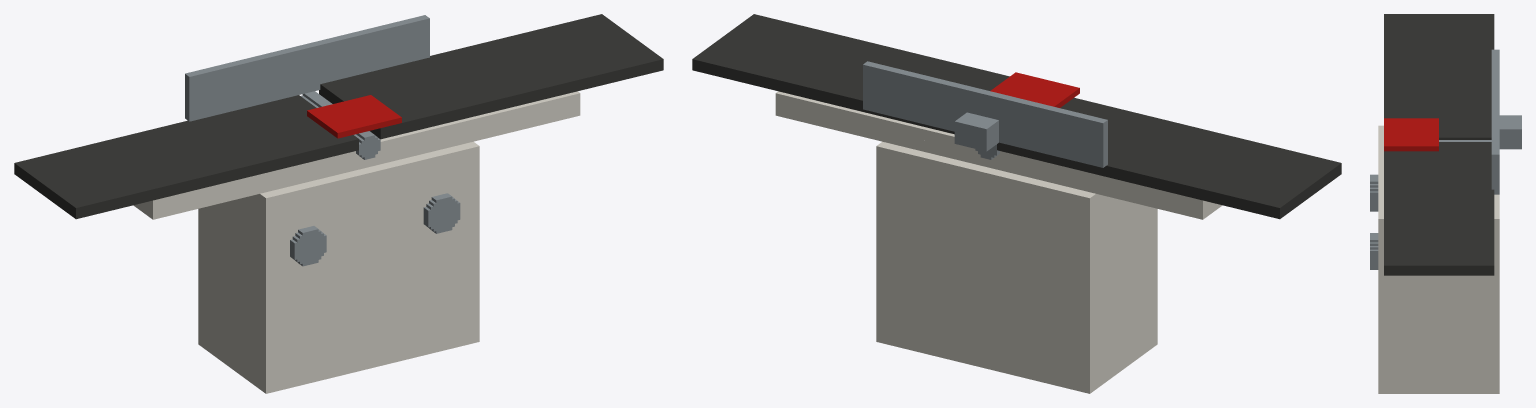
The model's file is jointer.glb.
3 renders of one model, left to right at view 1: azimuth 30°, elevation 25°; view 2: azimuth 150°, elevation 25°; view 3: azimuth 270°, elevation 25°, orthographic. The views are drawn at different scales.
Visible parts, largest first — view 1: jointer:compound; view 2: jointer:compound; view 3: jointer:compound.
Part boxes in pixels (left/top/right/bottom): jointer:compound: left=14, top=14, right=663, bottom=393; jointer:compound: left=692, top=14, right=1341, bottom=393; jointer:compound: left=1370, top=14, right=1521, bottom=393.
Size of the model in its own units: 2.2 by 0.98 by 0.55.
